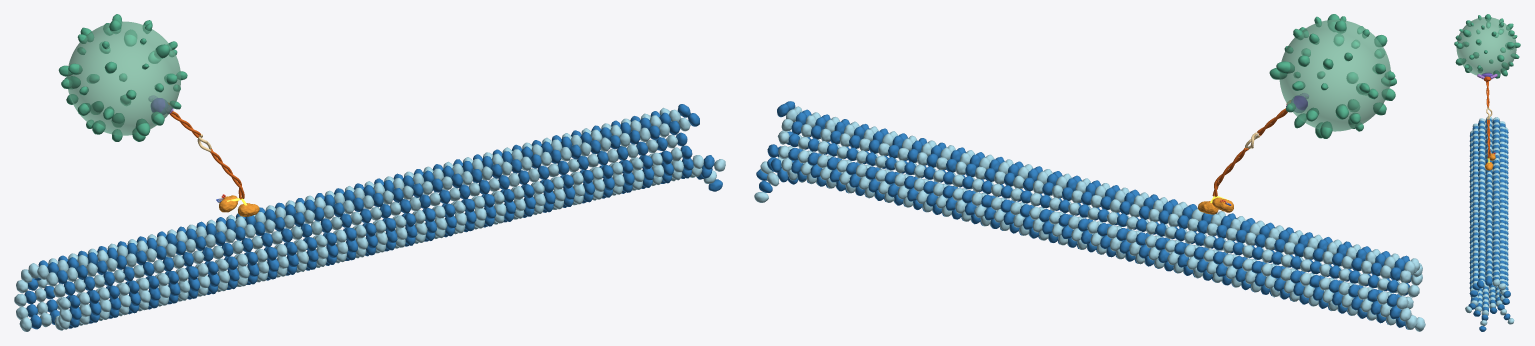
The model's file is kinesin.glb.
3 renders of one model, left to right at view 1: azimuth 30°, elevation 25°; view 2: azimuth 150°, elevation 25°; view 3: azimuth 270°, elevation 25°, orthographic. The views are drawn at different scales.
Visible parts, largest first — view 1: Microtubule_Alpha, Microtubule_Beta, Vesicle, MembraneProteins; view 2: Microtubule_Alpha, Microtubule_Beta, Vesicle, MembraneProteins; view 3: Microtubule_Beta, Microtubule_Alpha, Vesicle, MembraneProteins, Stalk.
Part boxes in pixels (<box>): Microtubule_Alpha: <box>14,107,725,331</box>; Microtubule_Beta: <box>24,104,722,329</box>; Vesicle: <box>67,21,180,135</box>; MembraneProteins: <box>58,14,187,141</box>; Microtubule_Alpha: <box>754,106,1425,331</box>; Microtubule_Beta: <box>756,101,1412,329</box>; Vesicle: <box>1279,19,1390,131</box>; MembraneProteins: <box>1269,14,1396,138</box>; Microtubule_Beta: <box>1468,118,1510,331</box>; Microtubule_Alpha: <box>1465,116,1514,325</box>; Vesicle: <box>1456,17,1516,75</box>; MembraneProteins: <box>1454,14,1520,78</box>; Stalk: <box>1486,81,1490,148</box>.
Size of what is drawn, in the model's own units: 280 by 121 by 44.38.
